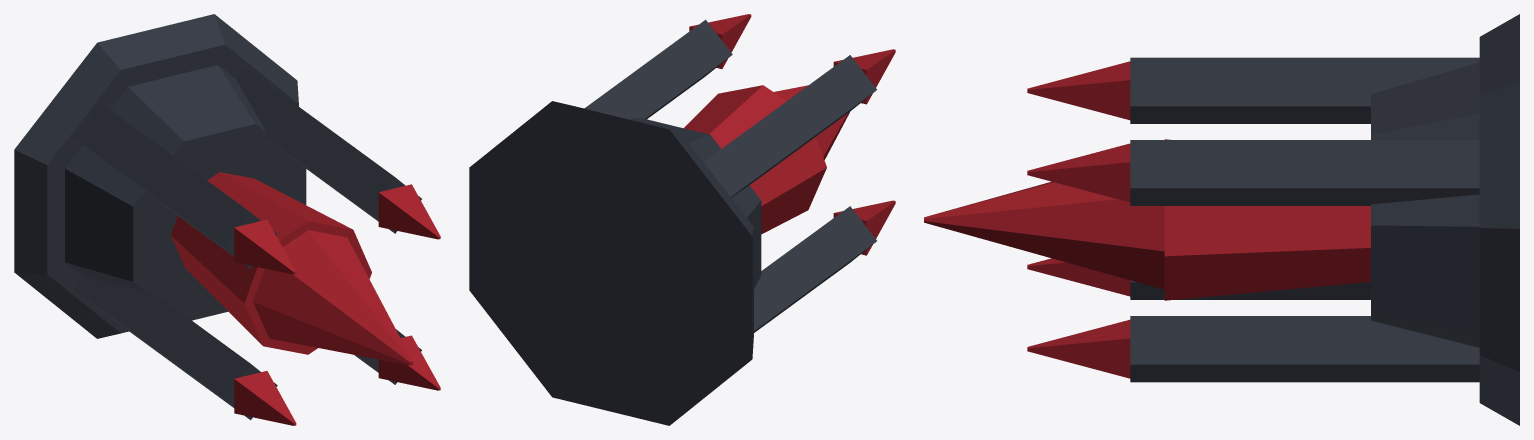
File: SM_Crucible.obj
3 views of the same model, side by side, from view 1: azimuth 30°, elevation 25°; view 2: azimuth 150°, elevation 25°; view 3: azimuth 270°, elevation 25° (orthographic). The views are drawn at different scales.
Visible parts, largest first — view 1: SM_Crucible_basalt, SM_Crucible_crimson; view 2: SM_Crucible_basalt, SM_Crucible_crimson; view 3: SM_Crucible_basalt, SM_Crucible_crimson.
Part boxes in pixels (x1,y1,x2,y2): SM_Crucible_basalt: (14,14,421,420); SM_Crucible_crimson: (171,172,440,425); SM_Crucible_basalt: (469,19,876,425); SM_Crucible_crimson: (684,14,895,255); SM_Crucible_basalt: (1130,14,1519,425); SM_Crucible_crimson: (924,61,1370,378).
Size of the model in its own units: 665 by 665 by 1040.
